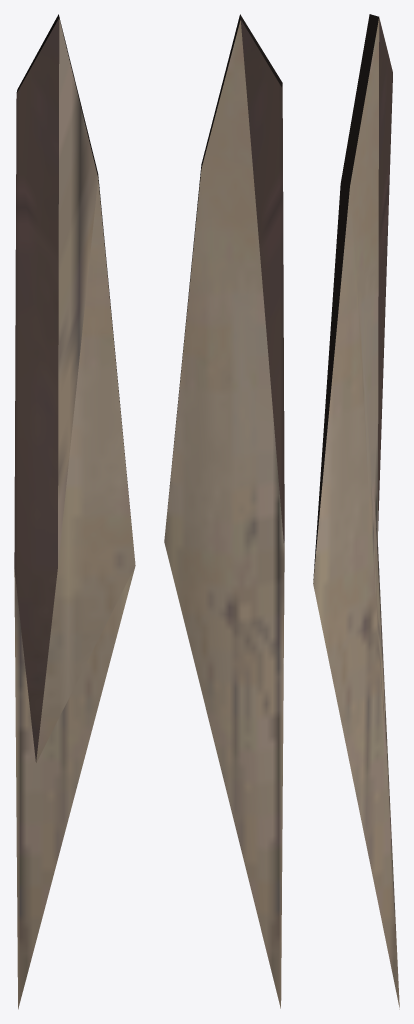
Rendered from wooden_barrel_chunk04.glb.
3 renders of one model, left to right at view 1: azimuth 30°, elevation 25°; view 2: azimuth 210°, elevation 25°; view 3: azimuth 270°, elevation 25°, orthographic.
Visible parts, largest first — view 1: wooden_barrel_chunk04; view 2: wooden_barrel_chunk04; view 3: wooden_barrel_chunk04.
Part boxes in pixels (left/top/right/bottom): wooden_barrel_chunk04: left=14, top=14, right=135, bottom=1009; wooden_barrel_chunk04: left=164, top=14, right=284, bottom=1008; wooden_barrel_chunk04: left=313, top=14, right=399, bottom=1009.
Bounding box in the file's own units: 0.0614 × 0.6253 × 0.0487.
1 material, 1 textured.
